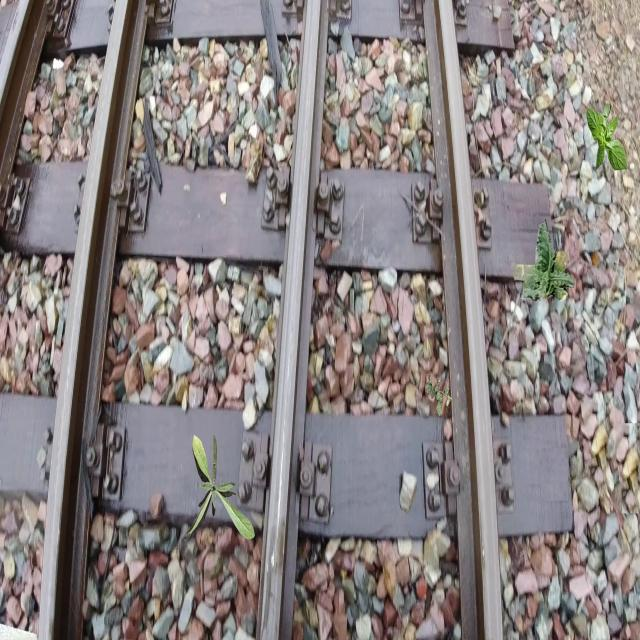Plant: (183, 434, 254, 542), (512, 219, 576, 302), (586, 102, 628, 173), (425, 375, 452, 416)
